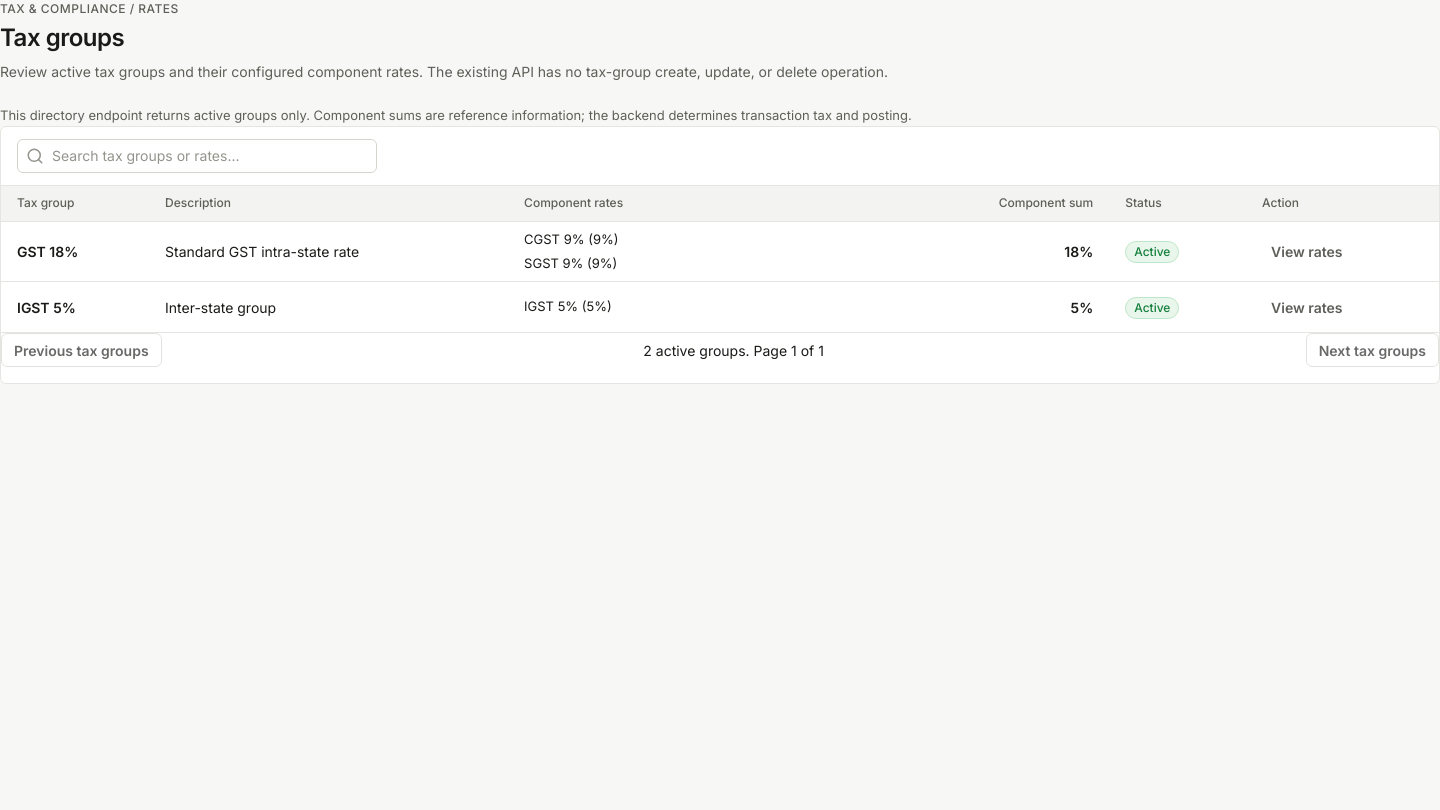
it: TaxGroupsPage › opens component rate composition modal on view rates click
Expected: the text "GST 18%" is shown, top-left (17, 243), bottom-right (78, 260)
Click the button "View rates" in the row of "GST 18%" at (1307, 252), box top-left (1262, 235), bottom-right (1352, 269)
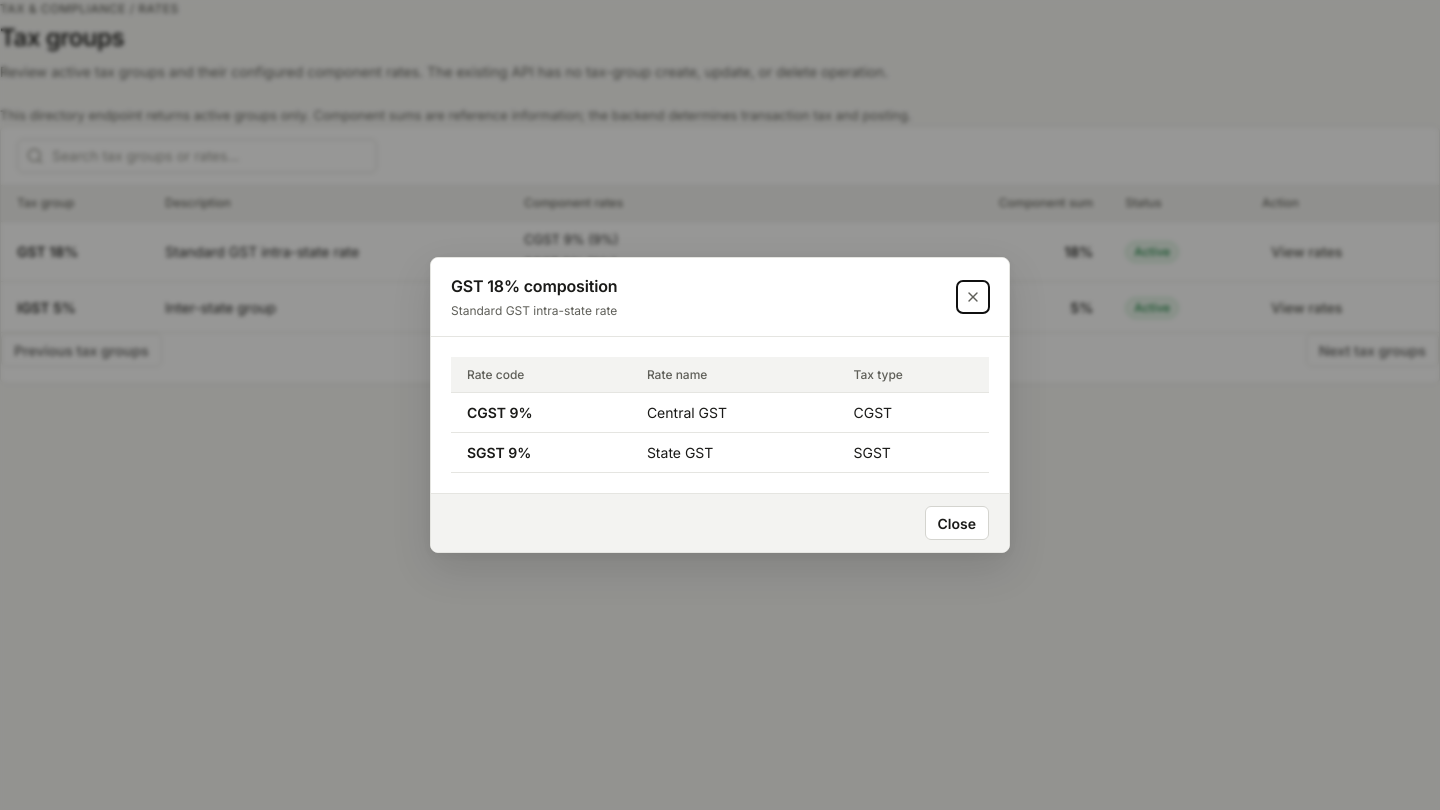
Now the dialog is shown, box top-left (430, 257), bottom-right (1010, 553)
Now the heading "GST 18% composition" is shown, box top-left (451, 274), bottom-right (618, 298)
Now the text "Central GST" is shown, box top-left (631, 393), bottom-right (838, 433)
Click the button "Close" at (957, 523), box top-left (924, 506), bottom-right (989, 540)
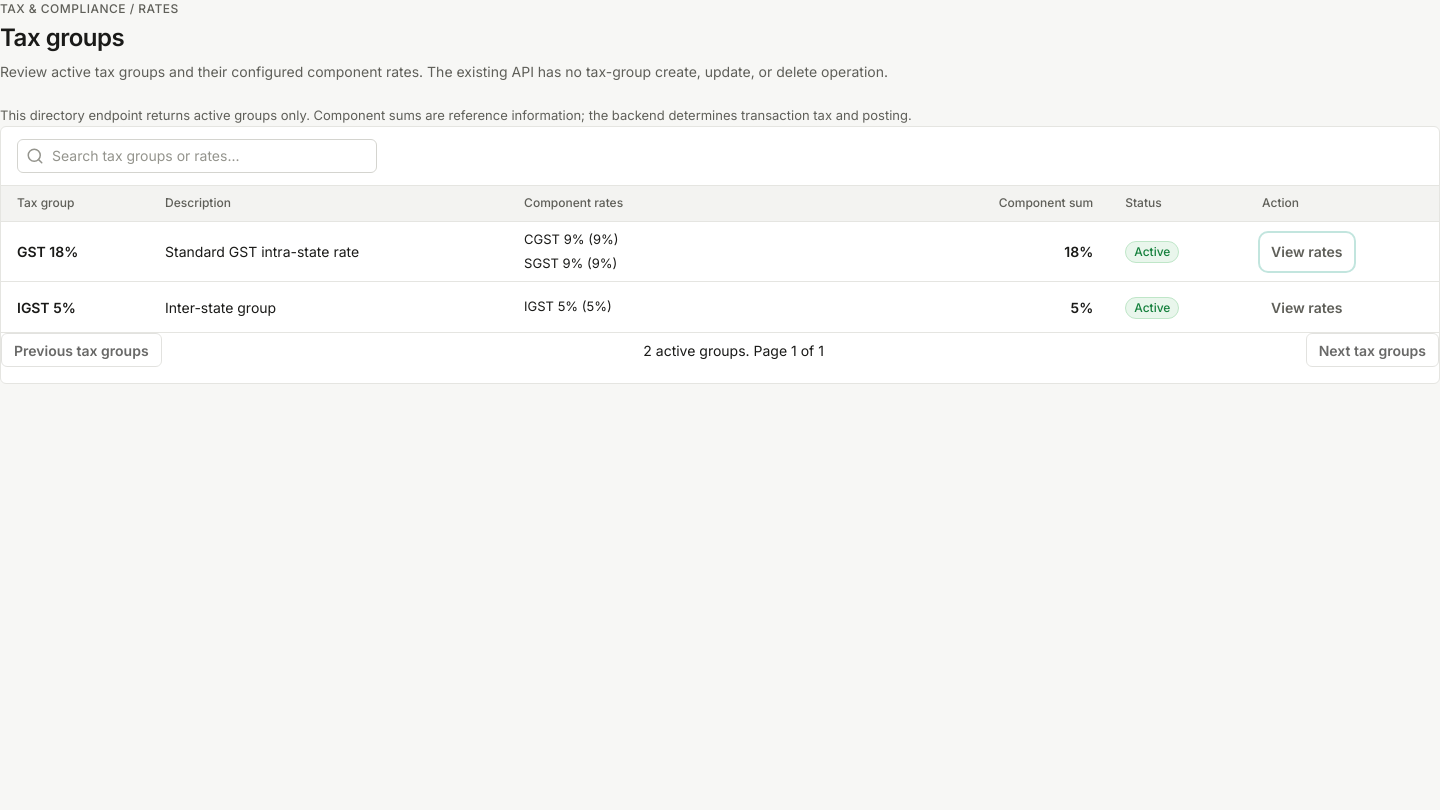
Now the dialog is gone
